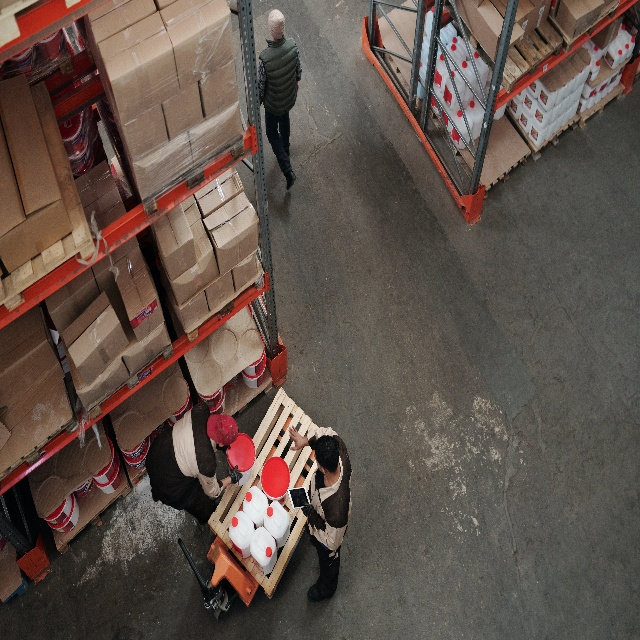Guantes: (299, 500, 315, 519), (228, 464, 243, 483)
Sin_guantes: (288, 424, 304, 451)
